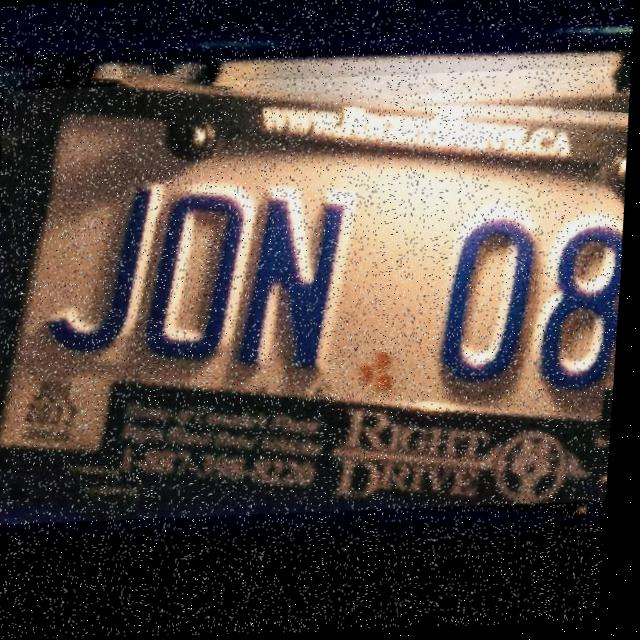LicensePlate: (0, 68, 636, 525)
